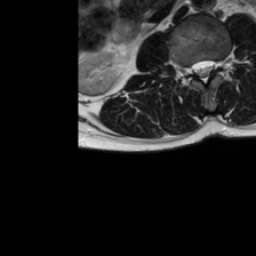CCS_normal: (199, 49, 207, 91)
LFS_stenosis: (215, 51, 223, 75)
LLS_normal: (207, 51, 215, 80)
RFS_normal: (184, 55, 191, 81)
RLS_normal: (191, 54, 199, 81)
